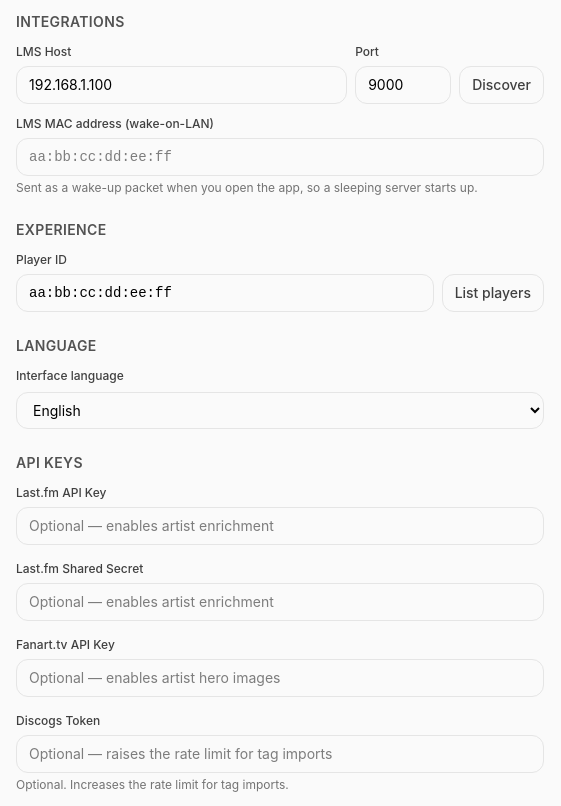
Test: SettingsView › shows discover error when no servers found
The image size is (561, 806).
Click the button with test id "discover-button". click: (502, 85)
box: 459,66 -> 544,104
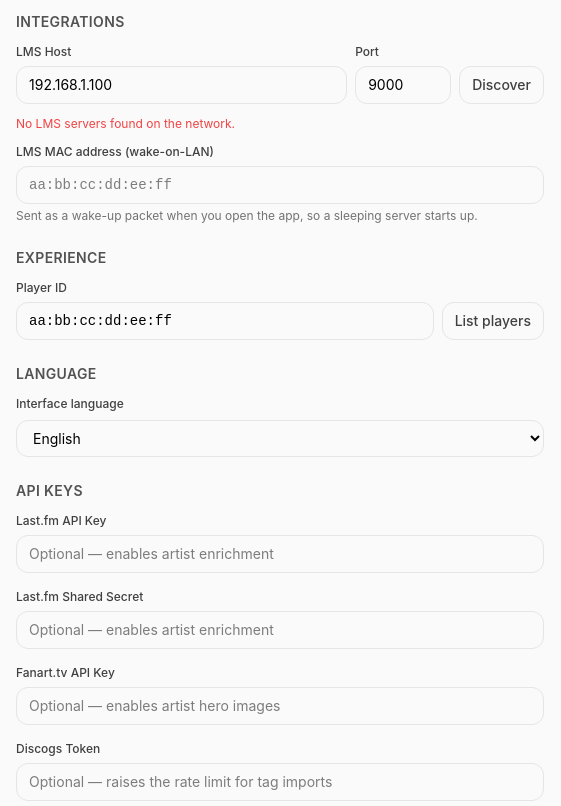
Now the text "No LMS servers found on the network." is shown, box 16,116 -> 235,131
